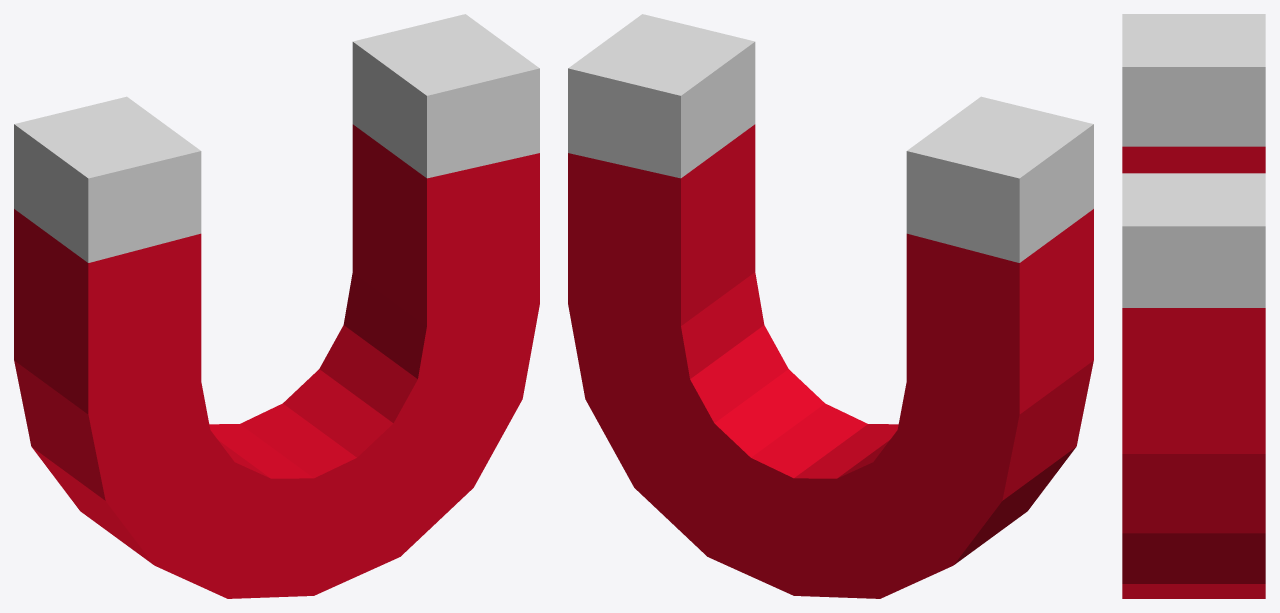
The model's file is Magnet.glb.
3 views of the same model, side by side, from view 1: azimuth 30°, elevation 25°; view 2: azimuth 150°, elevation 25°; view 3: azimuth 270°, elevation 25° (orthographic). The views are drawn at different scales.
Visible parts, largest first — view 1: Circle; view 2: Circle; view 3: Circle.
Part boxes in pixels (x1,y1,x2,y2): Circle: (14,14,539,598); Circle: (568,14,1093,598); Circle: (1122,14,1265,598).
Size of the model in its own units: 2 by 2 by 0.5701.
